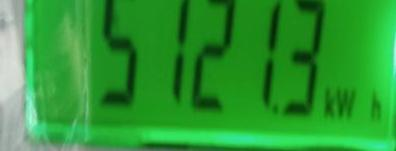.: (323, 82, 385, 126)
0: (273, 104, 280, 116)
2: (170, 1, 192, 106), (262, 0, 279, 108)
3: (189, 0, 237, 112)
4: (286, 0, 325, 115)
6: (95, 0, 142, 105)
